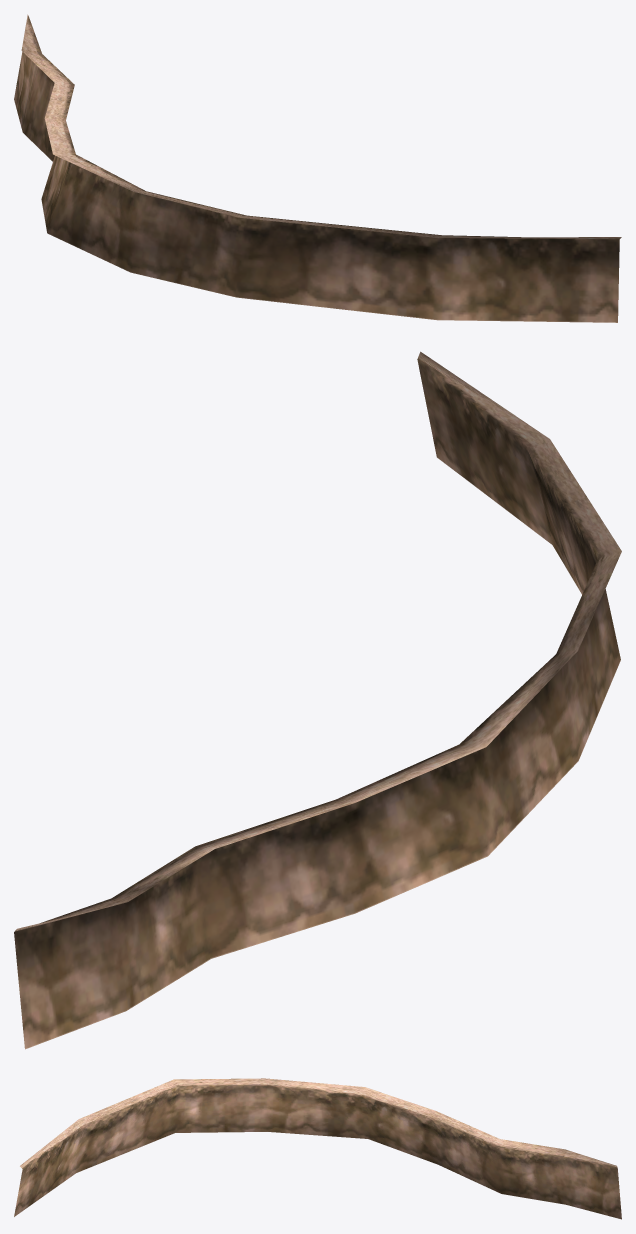
Rendered from EKH_CAVERNS_PS_CA_EDGEGRAB8374655.fbx.
The picture shows the model from 3 angles, top to bottom: view 1: azimuth 30°, elevation 25°; view 2: azimuth 150°, elevation 25°; view 3: azimuth 270°, elevation 25°; orthographic projection. The views are drawn at different scales.
Visible parts, largest first — view 1: EKH_CAVERNS_PS_CA_EDGEGRAB8374655; view 2: EKH_CAVERNS_PS_CA_EDGEGRAB8374655; view 3: EKH_CAVERNS_PS_CA_EDGEGRAB8374655.
Boxes of the visible parts, box(x1,y1,x2,y2) form: EKH_CAVERNS_PS_CA_EDGEGRAB8374655: box(14, 14, 621, 322); EKH_CAVERNS_PS_CA_EDGEGRAB8374655: box(14, 351, 621, 1049); EKH_CAVERNS_PS_CA_EDGEGRAB8374655: box(14, 1078, 621, 1219).
Size of the model in its own units: 22235 by 10677 by 56256.
1 material, 1 textured.
